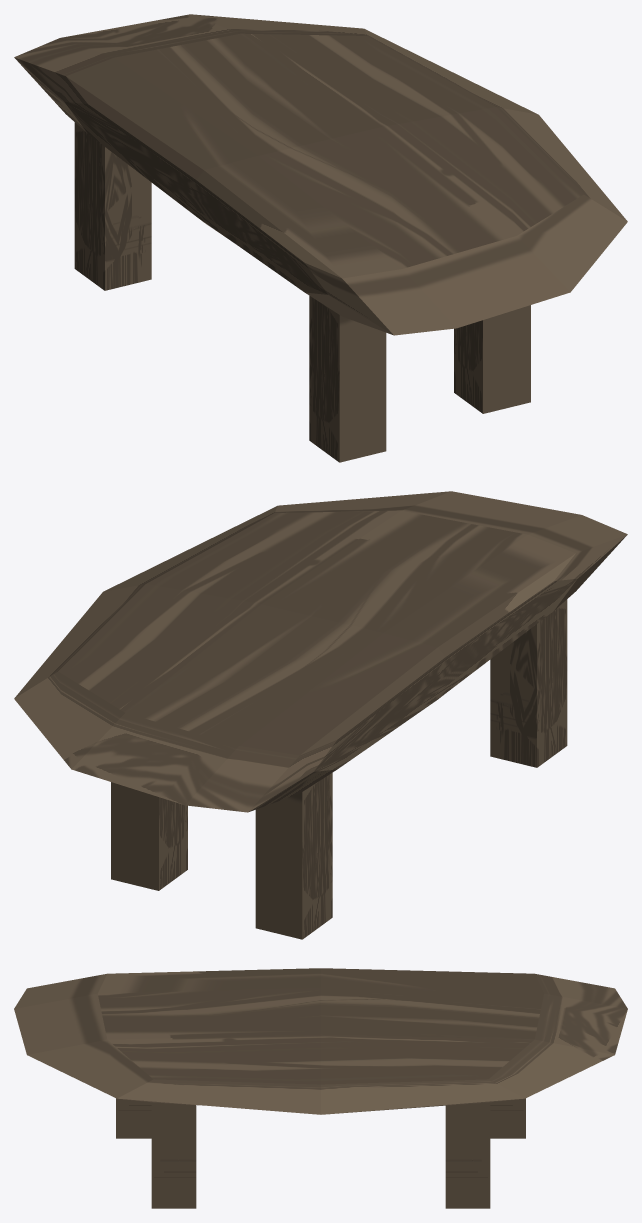
Rendered from end table.fbx.
The picture shows the model from 3 angles, top to bottom: view 1: azimuth 30°, elevation 25°; view 2: azimuth 150°, elevation 25°; view 3: azimuth 270°, elevation 25°; orthographic projection. The views are drawn at different scales.
Parts seen in each view (by area): view 1: Cube; view 2: Cube; view 3: Cube.
Boxes of the visible parts, x1,y1,x2,y2 form: Cube: (14, 14, 627, 462); Cube: (14, 491, 627, 939); Cube: (14, 968, 627, 1208).
Bounding box in the file's own units: 276 × 159 × 554.
Materials: 1 (1 with a texture image).
